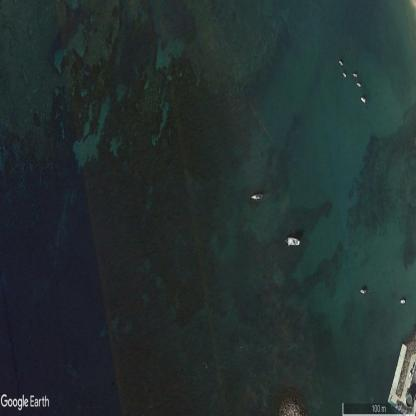ship: (285, 238, 300, 246), (251, 194, 263, 200), (360, 288, 366, 294), (361, 98, 366, 103), (400, 300, 405, 304), (357, 83, 361, 88), (343, 72, 346, 78), (353, 73, 357, 77), (340, 61, 343, 66)
